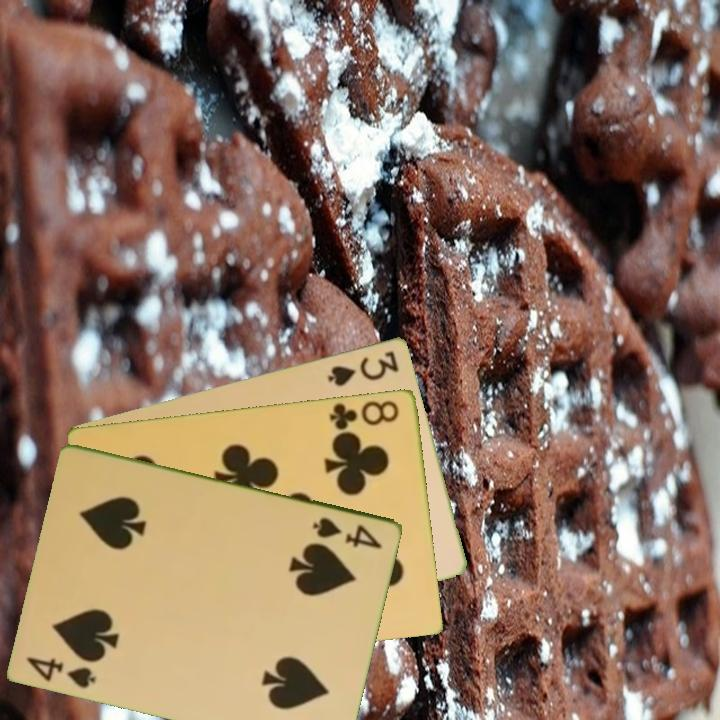3s: (324, 347, 402, 389)
4s: (309, 513, 385, 551), (23, 653, 99, 691)
8c: (326, 396, 403, 432)
